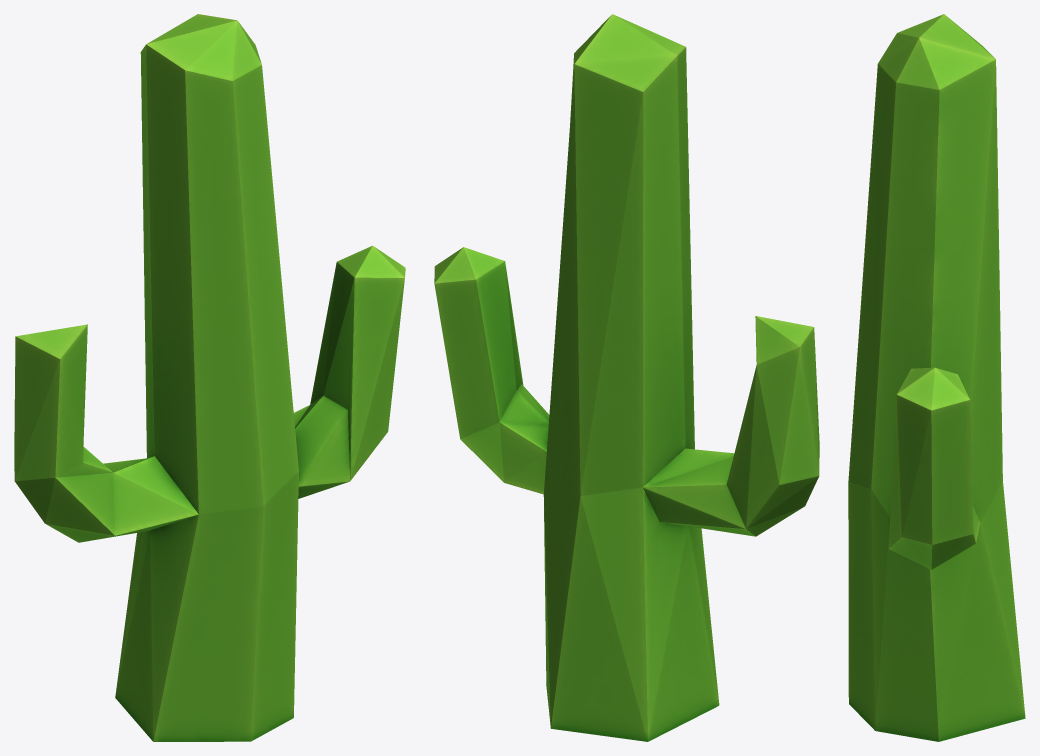
File: Cactus_15.fbx
3 views of the same model, side by side, from view 1: azimuth 30°, elevation 25°; view 2: azimuth 150°, elevation 25°; view 3: azimuth 270°, elevation 25° (orthographic).
Visible parts, largest first — view 1: Cactus_15; view 2: Cactus_15; view 3: Cactus_15.
Boxes of the visible parts, <box> form: Cactus_15: <box>14,14,405,741</box>; Cactus_15: <box>434,14,819,741</box>; Cactus_15: <box>848,14,1025,741</box>.
Size of the model in its own units: 36.27 by 61.11 by 14.49.
